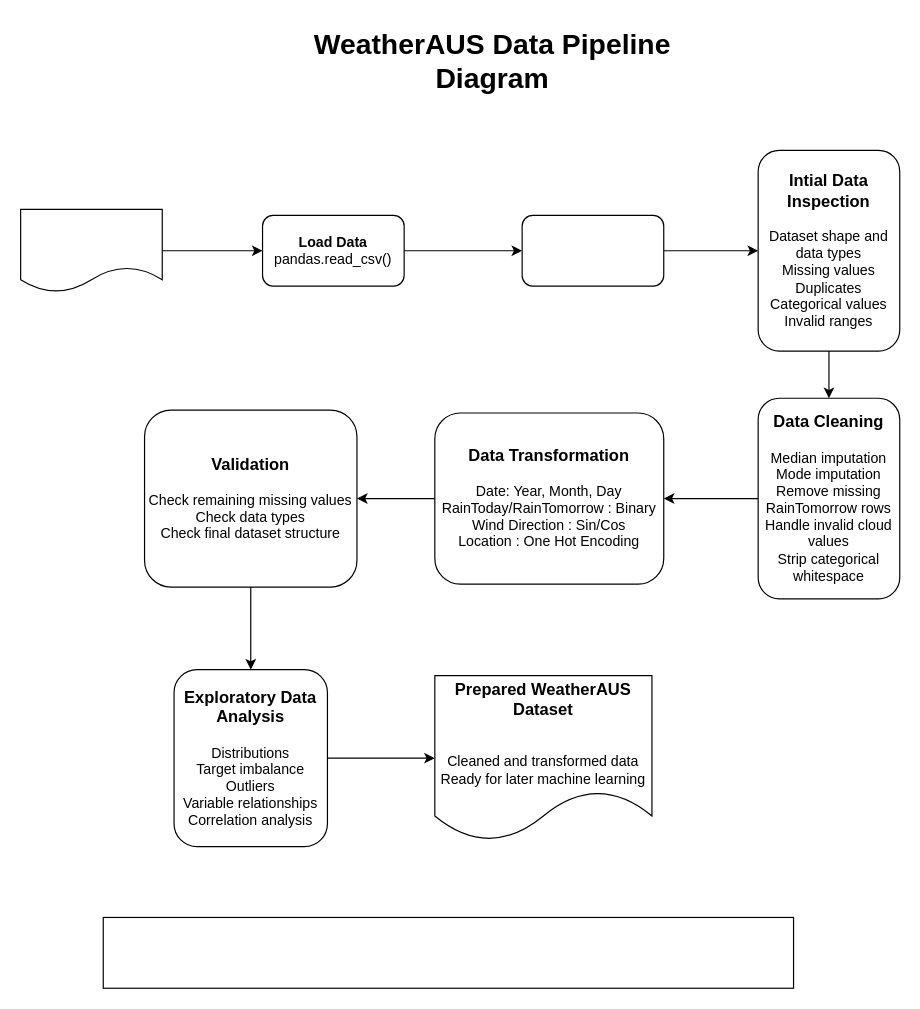
This 920x1009 diagram has some shape labels left out. Here are the shapes that lost their labels. From the top down, the box of each, then its label:
(19, 208, 162, 292): WeatherAUS CSV Dataset
(521, 214, 664, 286): Preserve Raw Data df_raw = df.copy(deep=True)
(102, 916, 794, 988): ETL - Style Workflow
